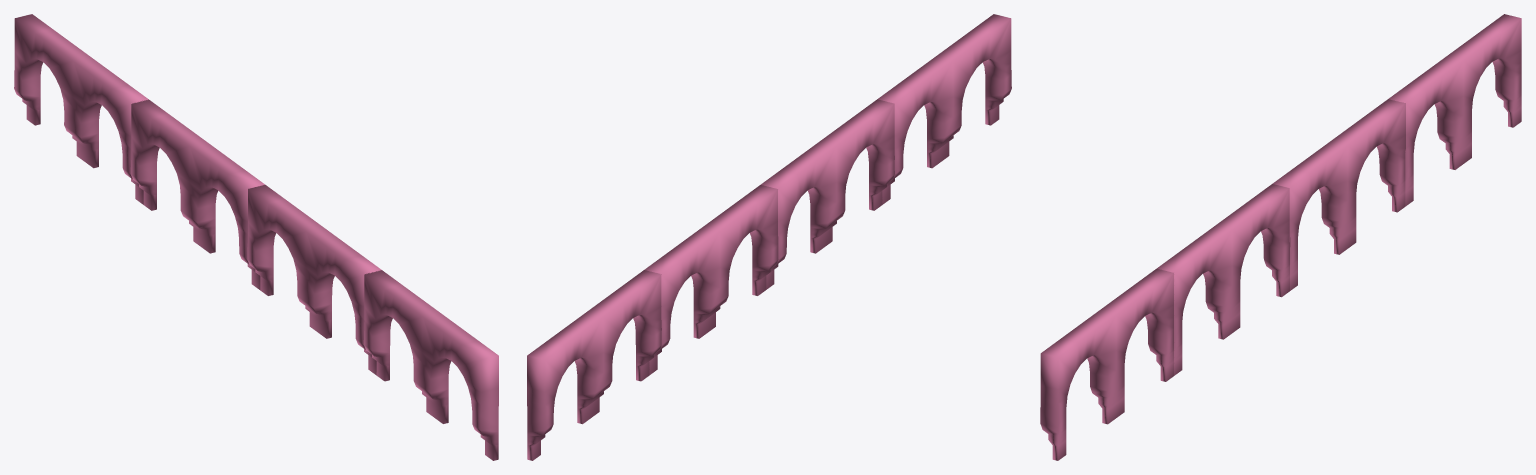
Rendered from Wall_Orn_02_x4.fbx.
The picture shows the model from 3 angles, left to right: view 1: azimuth 30°, elevation 25°; view 2: azimuth 150°, elevation 25°; view 3: azimuth 330°, elevation 25°; orthographic projection.
Parts seen in each view (by area): view 1: Wall_Orn_02_x4; view 2: Wall_Orn_02_x4; view 3: Wall_Orn_02_x4.
Part boxes in pixels (x1,y1,x2,y2): Wall_Orn_02_x4: (14, 14, 498, 460); Wall_Orn_02_x4: (527, 14, 1011, 460); Wall_Orn_02_x4: (1040, 14, 1521, 460).
Bounding box in the file's own units: 27.42 × 148 × 1201.
